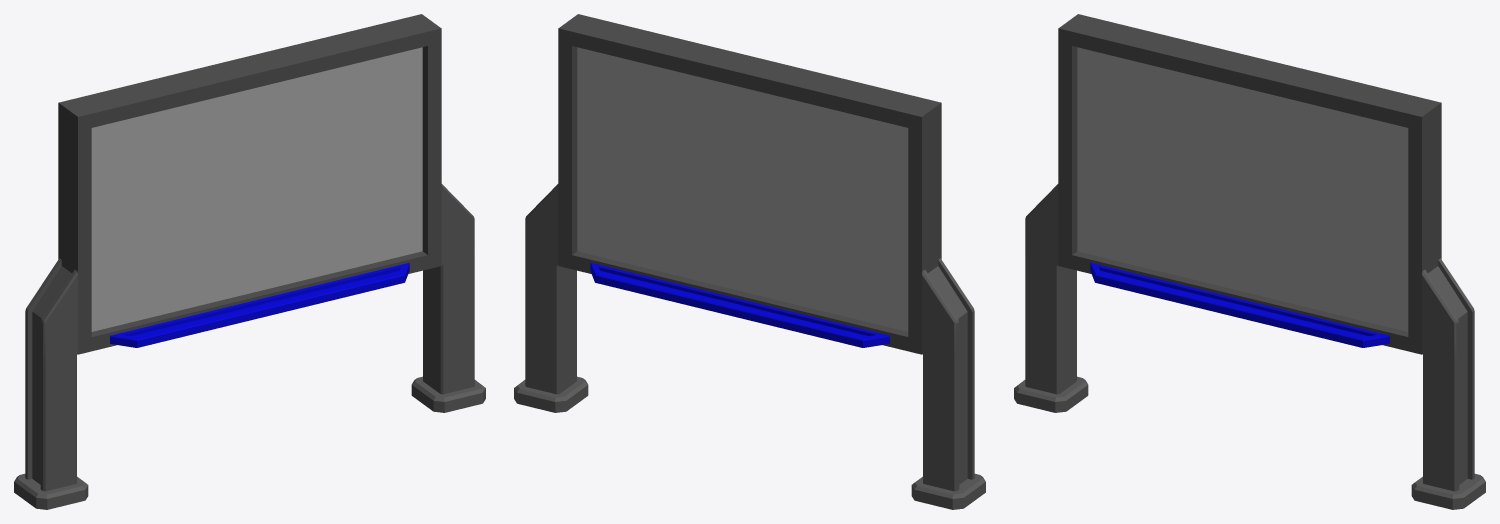
File: WhiteBoard.fbx
3 renders of one model, left to right at view 1: azimuth 30°, elevation 25°; view 2: azimuth 150°, elevation 25°; view 3: azimuth 330°, elevation 25°, orthographic.
Parts seen in each view (by area): view 1: WhiteBoard; view 2: WhiteBoard; view 3: WhiteBoard.
Part boxes in pixels (x1,y1,x2,y2): WhiteBoard: [14, 14, 485, 509]; WhiteBoard: [514, 14, 985, 509]; WhiteBoard: [1014, 14, 1485, 509].
Size of the model in its own units: 9.9 by 8 by 1.6.
